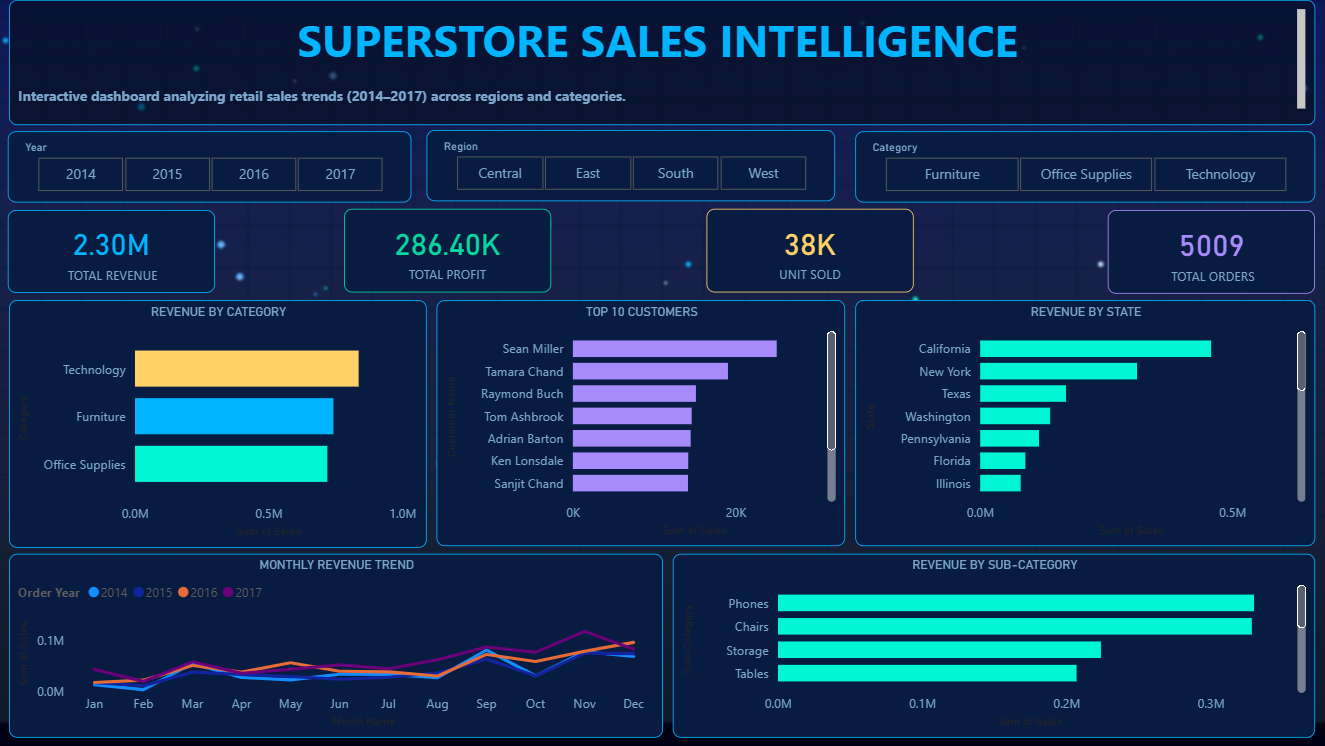

This screenshot's page, from the dashboard's own definition file:
{"tool":"powerbi","page":{"name":" SALES DASHBOARD","canvas":[1280,720],"ordinal":0},"visuals":[{"type":"textbox","box":[9.7,0,1260.7,120.6],"z":0},{"type":"card","title":"TOTAL REVENU","fields":{"Values":["Sum(superstore_clean.Sales)"]},"box":[9,203,200,80],"z":1000},{"type":"slicer","fields":{"Values":["superstore_clean.Order Year"]},"box":[8.4,126.7,389.7,68.8],"z":2000},{"type":"slicer","fields":{"Values":["superstore_clean.Region"]},"box":[412.6,125.5,394.5,68.8],"z":3000},{"type":"slicer","fields":{"Values":["superstore_clean.Category"]},"box":[826.4,126.7,444,68.8],"z":4000},{"type":"card","title":"TOTAL REVENU","fields":{"Values":["Sum(superstore_clean.Profit)"]},"box":[333,201.5,200.3,80.8],"z":5000},{"type":"card","title":"TOTAL REVENU","fields":{"Values":["Count(superstore_clean.Order ID)"]},"box":[1070.1,202.7,200.3,80.8],"z":6000},{"type":"card","title":"TOTAL REVENU","fields":{"Values":["Sum(superstore_clean.Quantity)"]},"box":[682.8,201.5,200.3,80.8],"z":7000},{"type":"clusteredBarChart","title":" REVENUE BY CATEGORY ","fields":{"Y":["Sum(superstore_clean.Sales)"],"Category":["superstore_clean.Category"]},"box":[9.7,289.5,403,238.9],"z":8000},{"type":"clusteredBarChart","title":"TOP 10 CUSTOMERS","fields":{"Category":["superstore_clean.Customer Name"],"Y":["Sum(superstore_clean.Sales)"]},"box":[422.3,289.5,394.5,237.7],"z":9000},{"type":"clusteredBarChart","title":" REVENUE BY STATE ","fields":{"Y":["Sum(superstore_clean.Sales)"],"Category":["superstore_clean.State"]},"box":[826.4,289.5,444,237.7],"z":10000},{"type":"lineChart","title":"MONTHLY REVENUE TREND","fields":{"Y":["Sum(superstore_clean.Sales)"],"Series":["superstore_clean.Order Year"],"Category":["superstore_clean.Month Name"]},"box":[9.7,534.5,631,177.3],"z":11000},{"type":"clusteredBarChart","title":"REVENUE BY SUB-CATEGORY","fields":{"Y":["Sum(superstore_clean.Sales)"],"Category":["superstore_clean.Sub-Category"]},"box":[650.3,534.5,620.1,177.3],"z":12000}]}

Visuals, with their boxes in screenshot pixels (x1, y1, x2, y2), scaled from the page's 1280x720 canvas onto the 1325x746 screenshot:
textbox: box(10, 0, 1315, 125)
"TOTAL REVENU" card: box(9, 210, 216, 293)
slicer - superstore_clean.Order Year: box(9, 131, 412, 203)
slicer - superstore_clean.Region: box(427, 130, 835, 201)
slicer - superstore_clean.Category: box(855, 131, 1315, 203)
"TOTAL REVENU" card: box(345, 209, 552, 292)
"TOTAL REVENU" card: box(1108, 210, 1315, 294)
"TOTAL REVENU" card: box(707, 209, 914, 292)
" REVENUE BY CATEGORY " clusteredBarChart: box(10, 300, 427, 547)
"TOP 10 CUSTOMERS" clusteredBarChart: box(437, 300, 846, 546)
" REVENUE BY STATE " clusteredBarChart: box(855, 300, 1315, 546)
"MONTHLY REVENUE TREND" lineChart: box(10, 554, 663, 738)
"REVENUE BY SUB-CATEGORY" clusteredBarChart: box(673, 554, 1315, 738)
